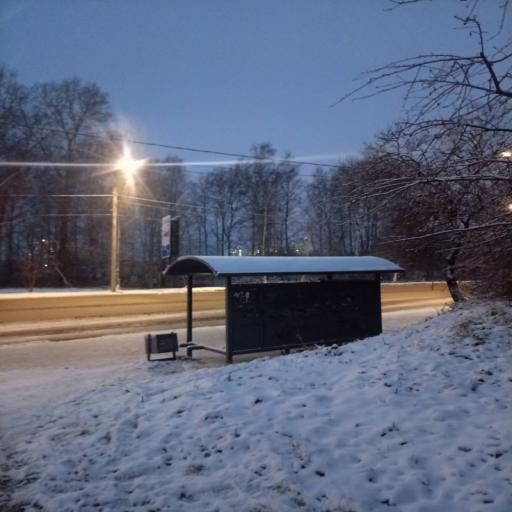book: (165, 256, 402, 363)
phone: (110, 187, 118, 291)
ramp: (0, 289, 186, 328)
traffic_light: (145, 333, 178, 360)
